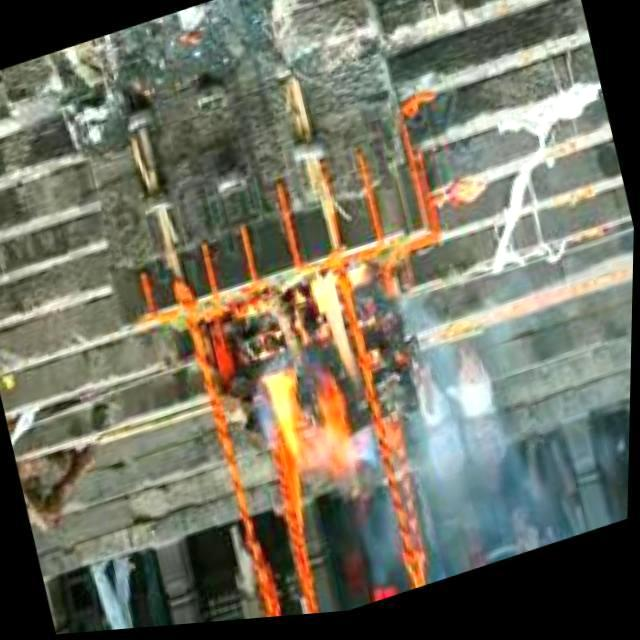fire: (244, 266, 392, 506)
